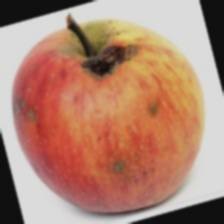apple: (29, 46, 216, 220)
